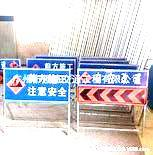sign: (3, 71, 70, 101), (78, 69, 147, 86)
